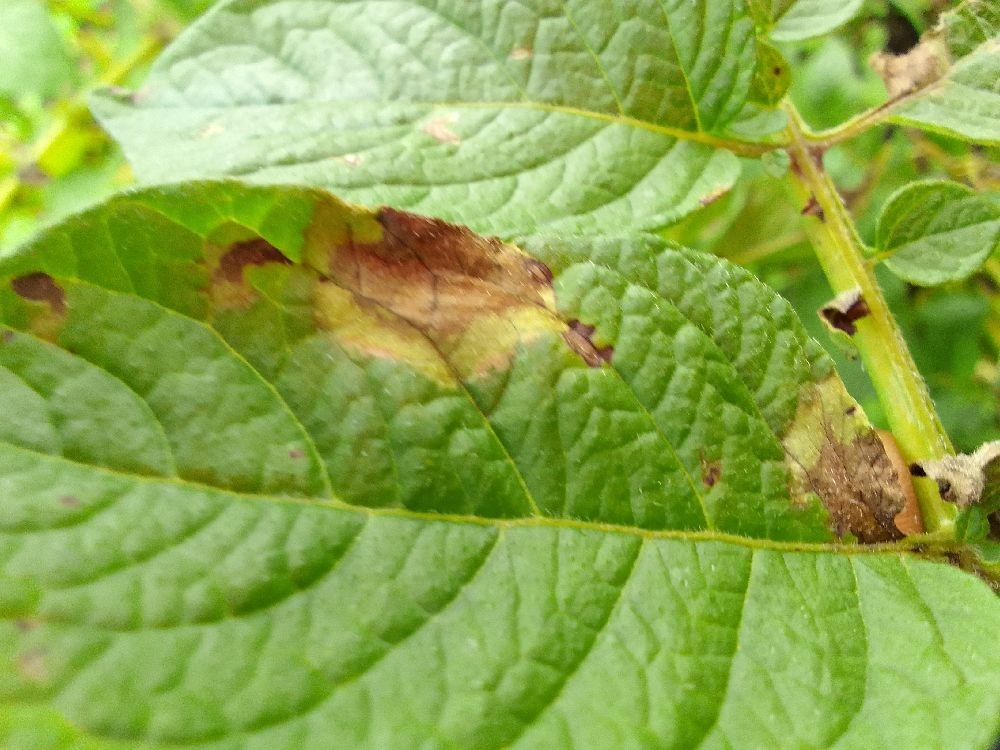late_blight: (181, 176, 632, 403), (748, 346, 1000, 621), (756, 0, 982, 268), (0, 262, 76, 352)
